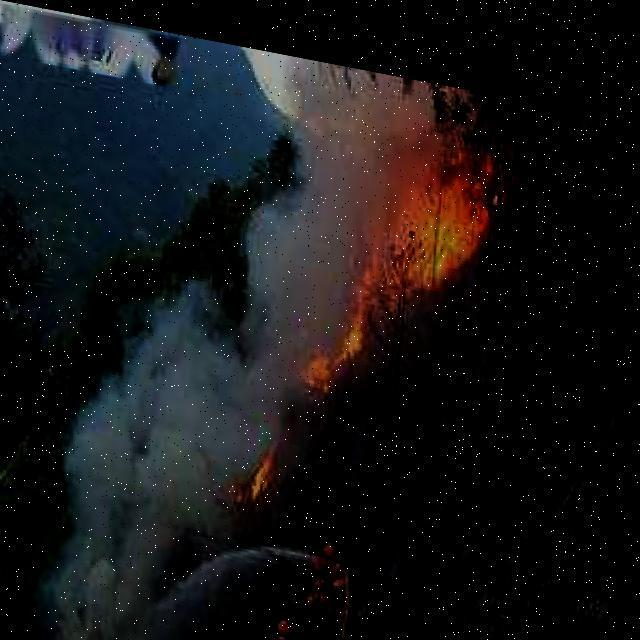Fire: (352, 97, 506, 292), (300, 288, 366, 384), (232, 416, 286, 506)
